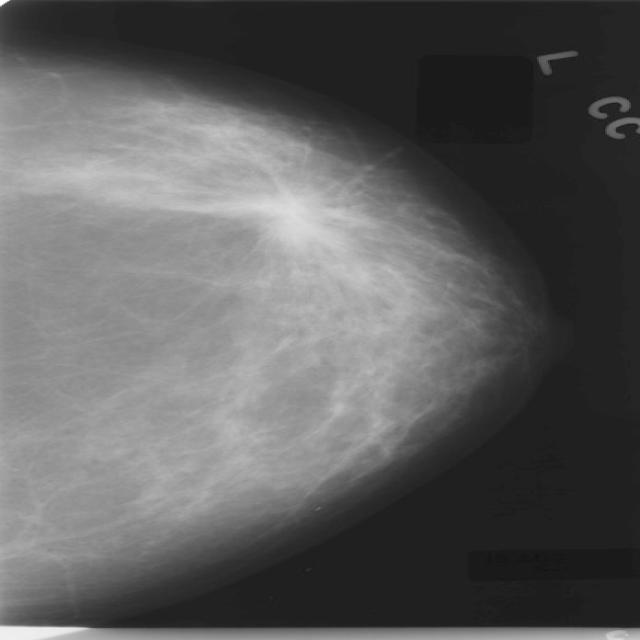tumour: (206, 178, 364, 250)
